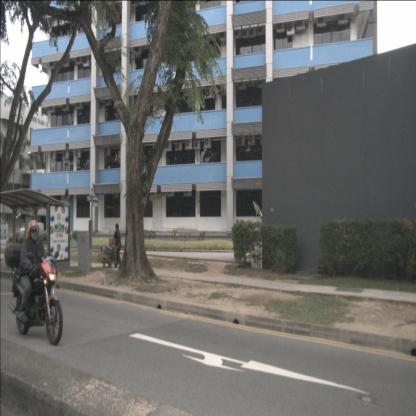human-pedestrian-adult: (110, 223, 122, 270)
vehicle-car: (20, 222, 44, 242)
vehicle-motorcycle: (5, 220, 64, 345)
